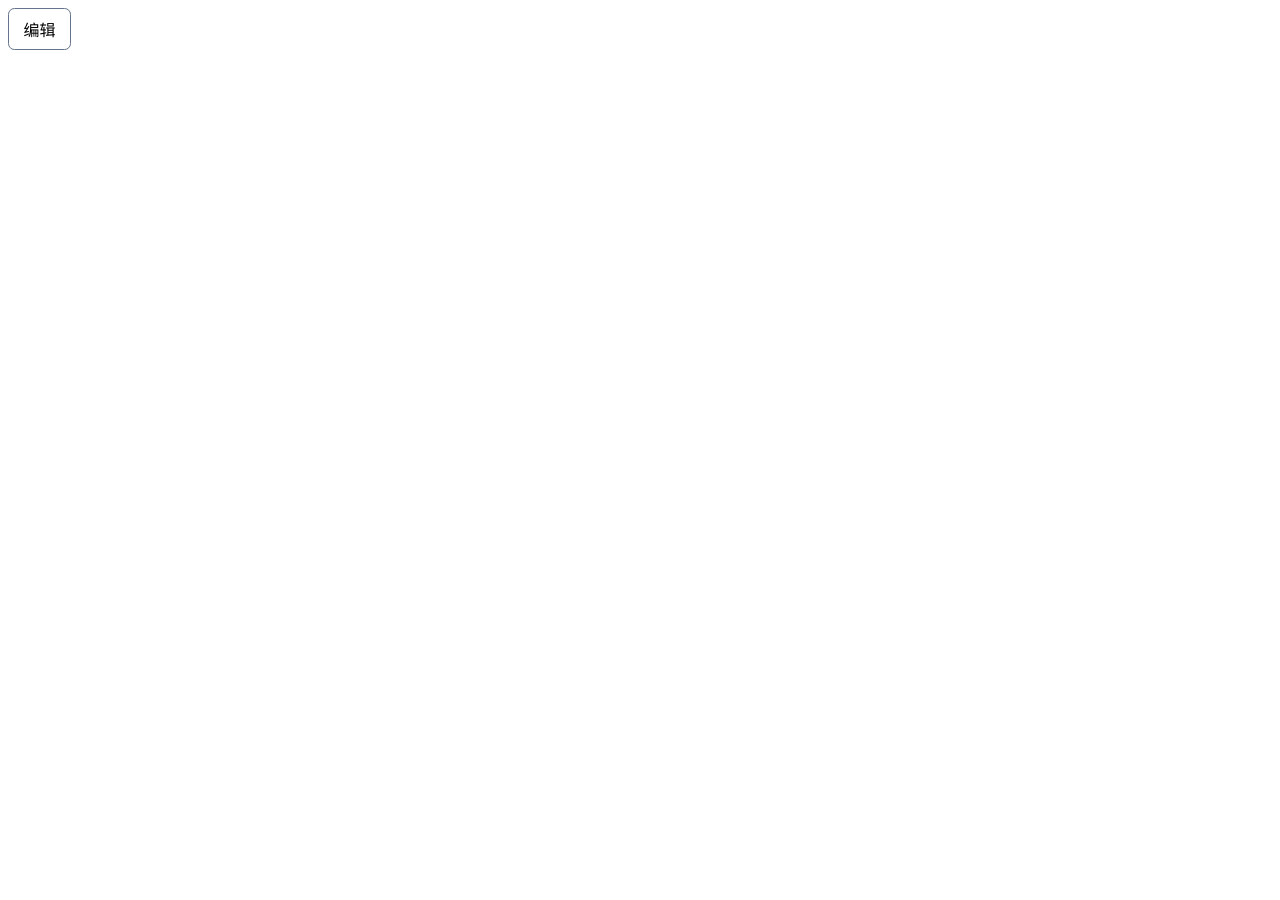
it: keeps the single-date calendar inside its containing dialog
Later steps or results of the test are not shown.
Step 1. Click the button "编辑" → (39, 29), box [8,8,71,50]
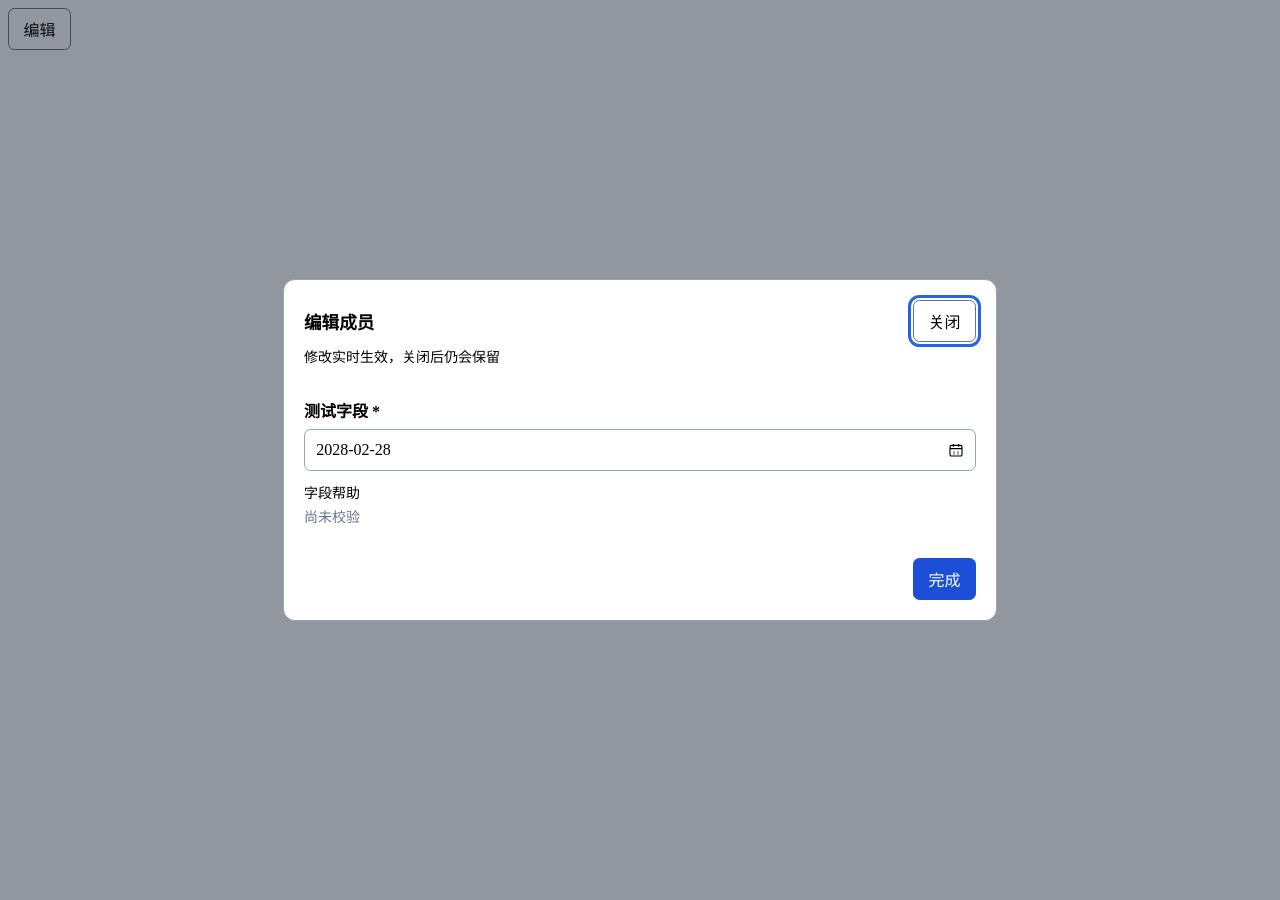
Step 2. Click the button named "测试字段" → (354, 450), box [304,429,976,471]
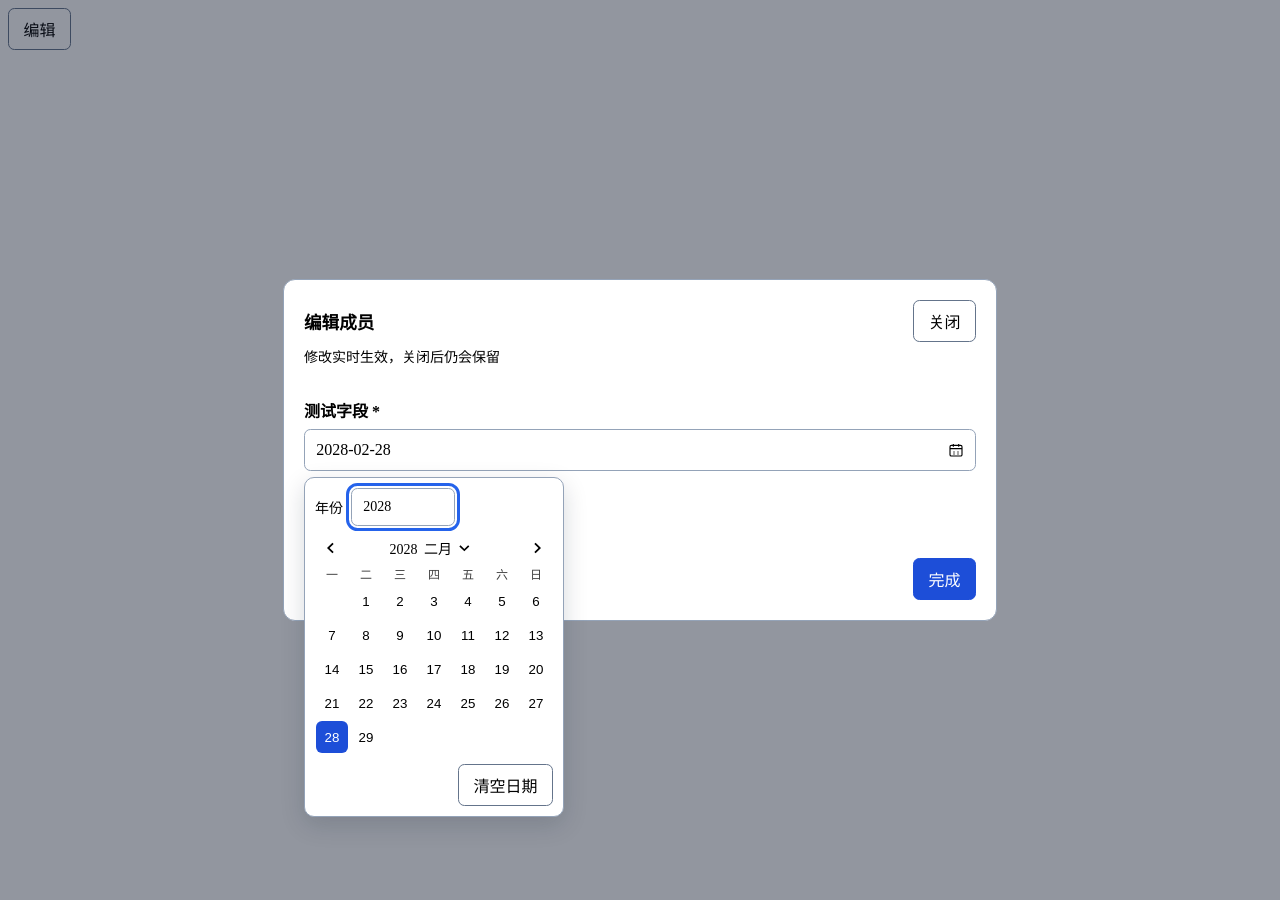
expect the button "29" is enabled: met, box [350,721,382,753]
